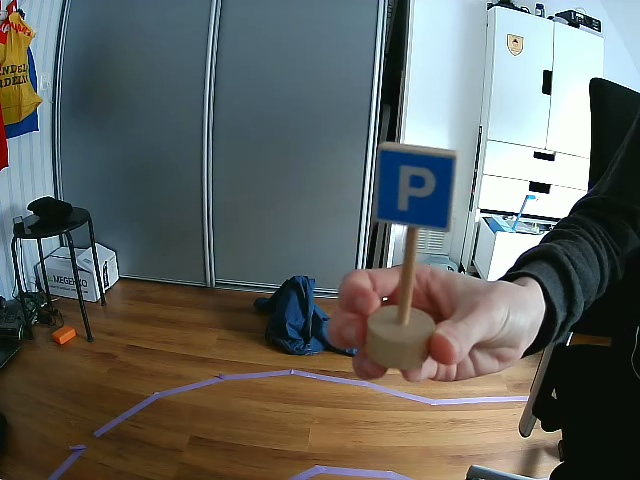parkeerbord: (372, 150, 454, 227)
